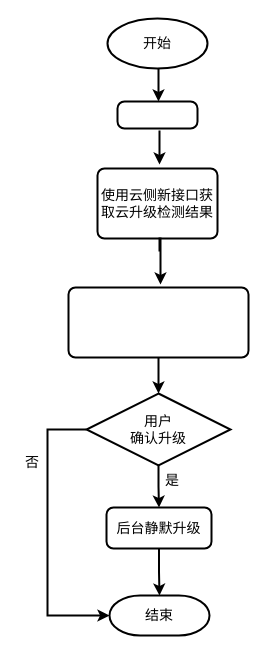
The diagram is 266 pixels wide and 653 high, and some of its shapes have lost their labels. Each missing label, with the centre of its shape:
"启动App" belongs at (157,114).
"根据云升级检测结果中相应的强提醒设置以及App是否是重启或切换云账号，进行相应强提醒" belongs at (158,322).
